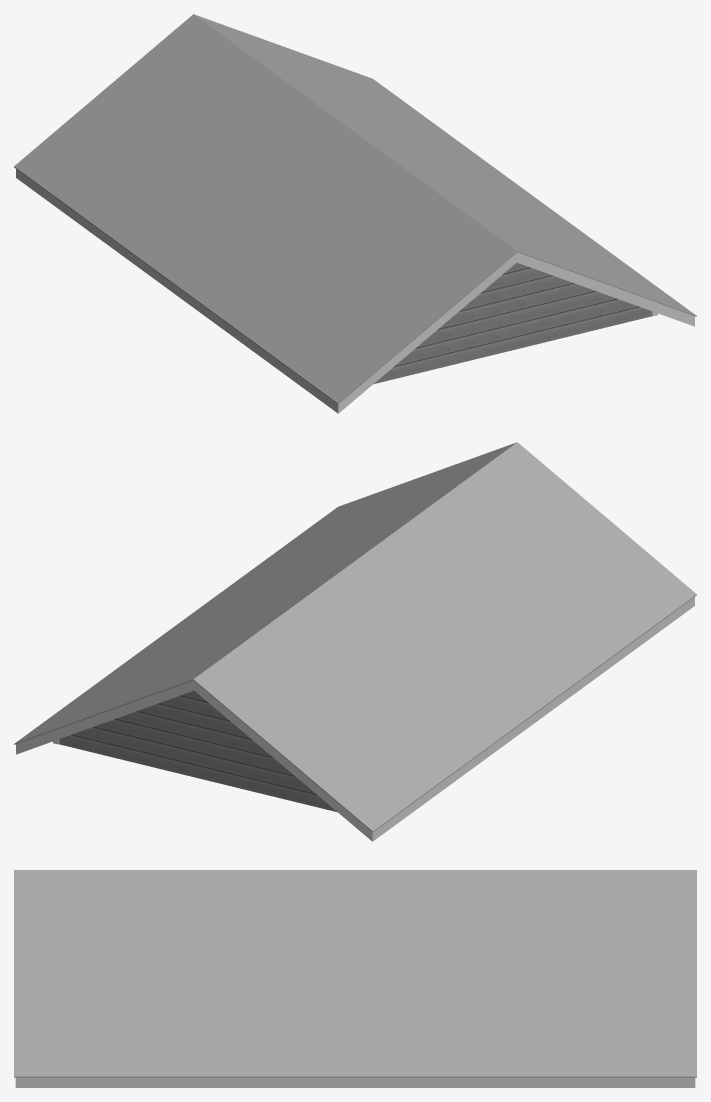
File: gable.glb
3 views of the same model, one above another, from view 1: azimuth 30°, elevation 25°; view 2: azimuth 150°, elevation 25°; view 3: azimuth 270°, elevation 25° (orthographic). The views are drawn at different scales.
Parts seen in each view (by area): view 1: Roof_top, Roof_exterior.001, Roof_siding; view 2: Roof_top, Roof_exterior.001, Roof_siding; view 3: Roof_top, Roof_siding.
Boxes of the visible parts, x1,y1,x2,y2 form: Roof_top: (14, 14, 696, 404); Roof_exterior.001: (373, 262, 651, 384); Roof_siding: (16, 169, 694, 413); Roof_top: (14, 442, 696, 832); Roof_exterior.001: (59, 690, 337, 812); Roof_siding: (16, 597, 694, 841); Roof_top: (14, 870, 696, 1077); Roof_siding: (15, 1077, 695, 1087).
Bounding box in the file's own units: 7.07 × 2.25 × 11.05.
Materials: 7 (2 with a texture image).
